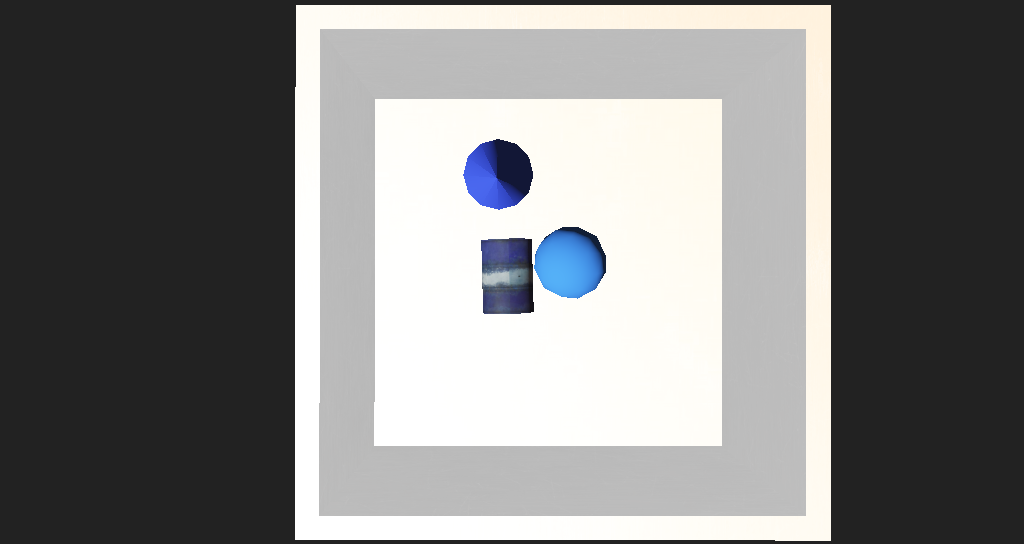cone: (448, 251, 495, 293)
cylinder: (424, 184, 492, 236)
sphere: (495, 239, 556, 286)
